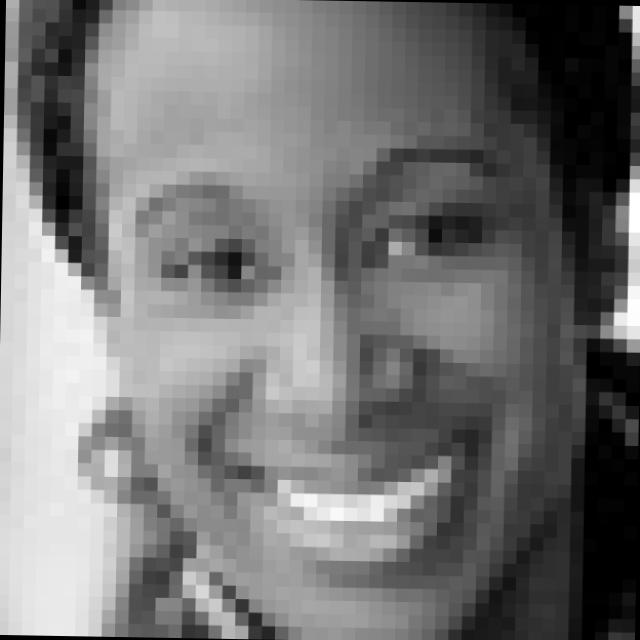happy: (119, 125, 528, 582)
